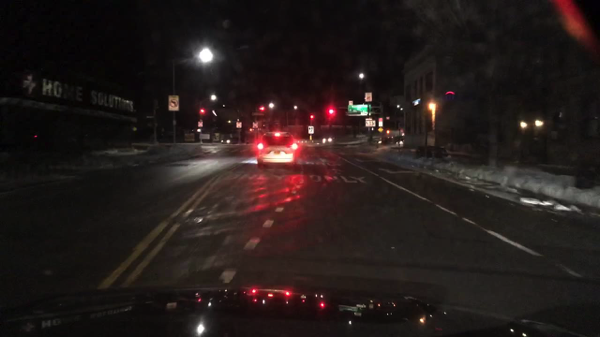car: (256, 131, 301, 169), (222, 135, 243, 144), (321, 135, 334, 144)
traffic light: (327, 107, 333, 119), (199, 107, 204, 116), (386, 129, 390, 137), (259, 106, 264, 112), (196, 128, 202, 132), (310, 115, 312, 121)
traffic sign: (347, 105, 371, 116), (168, 96, 178, 111), (364, 118, 374, 129), (364, 92, 372, 100), (377, 115, 382, 127), (307, 126, 313, 134), (196, 121, 202, 128), (377, 127, 383, 134), (252, 122, 258, 128), (236, 122, 242, 128)
